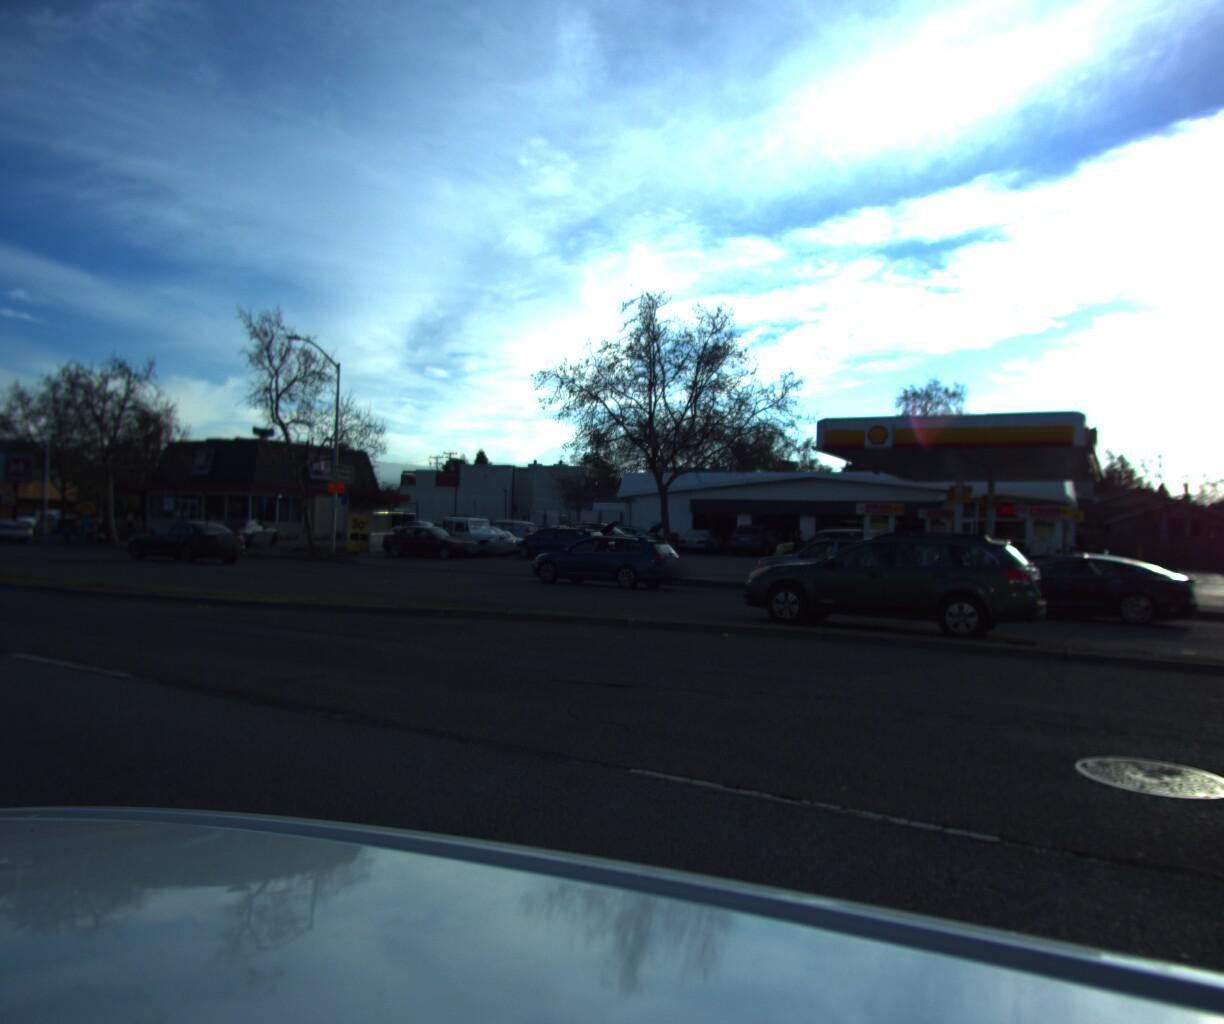car: (737, 522, 1058, 645), (941, 542, 1199, 629), (743, 524, 924, 597), (948, 540, 1120, 613), (519, 521, 690, 587), (116, 510, 253, 564), (762, 518, 892, 568), (402, 503, 525, 555), (505, 513, 619, 556), (375, 513, 489, 555), (513, 515, 625, 556), (555, 510, 654, 551), (203, 515, 287, 549), (442, 516, 527, 547), (485, 510, 566, 541), (726, 515, 790, 550), (600, 518, 674, 545), (772, 500, 824, 527), (711, 501, 768, 526), (676, 520, 725, 548), (834, 499, 882, 527), (900, 500, 946, 529), (1218, 539, 1224, 573)
